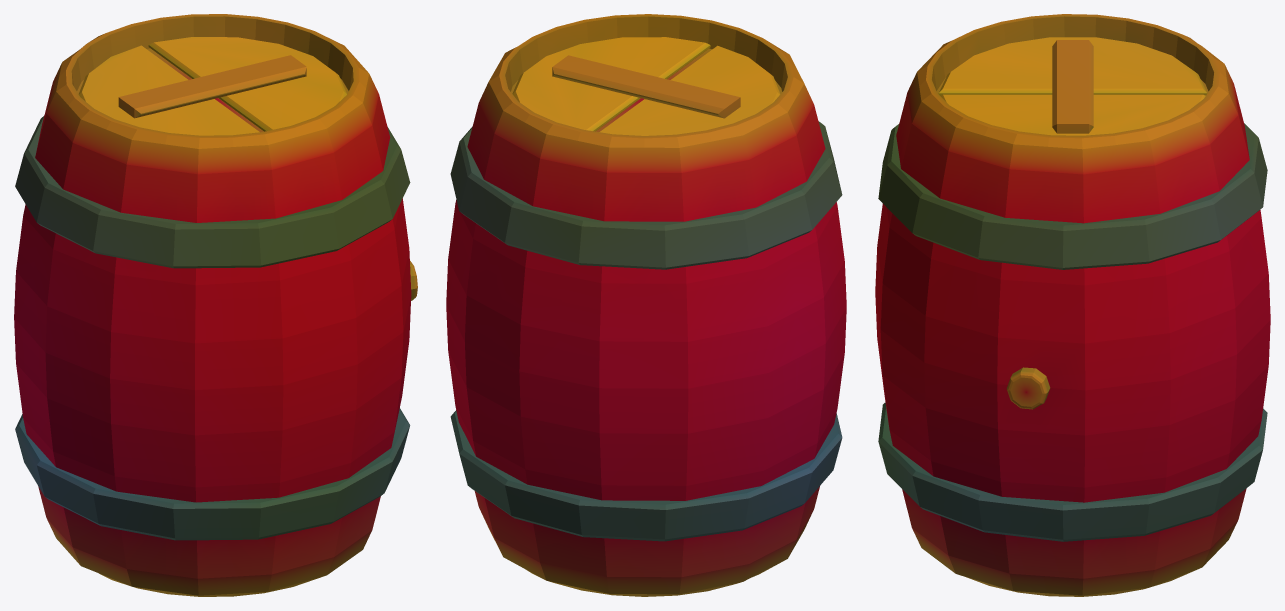
Rendered from Prop_Barrel.fbx.
3 views of the same model, side by side, from view 1: azimuth 30°, elevation 25°; view 2: azimuth 150°, elevation 25°; view 3: azimuth 270°, elevation 25° (orthographic).
Parts seen in each view (by area): view 1: Prop_Barrel; view 2: Prop_Barrel; view 3: Prop_Barrel.
Part boxes in pixels (x1,y1,x2,y2): Prop_Barrel: (14,14,417,596); Prop_Barrel: (446,14,846,596); Prop_Barrel: (875,14,1270,596).
Size of the model in its own units: 0.6922 by 0.86 by 0.6709.
